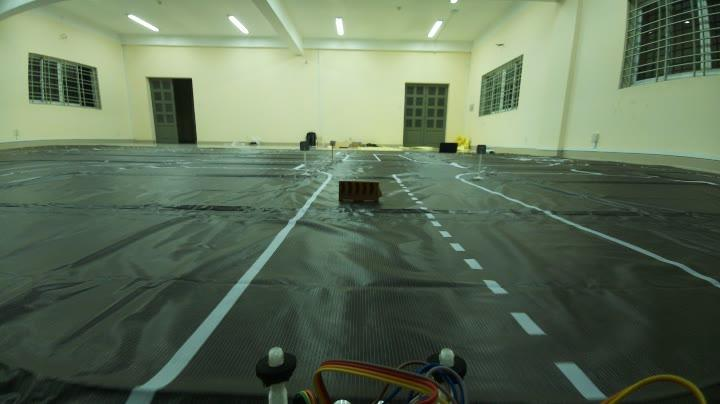roadblock: (333, 177, 396, 209)
